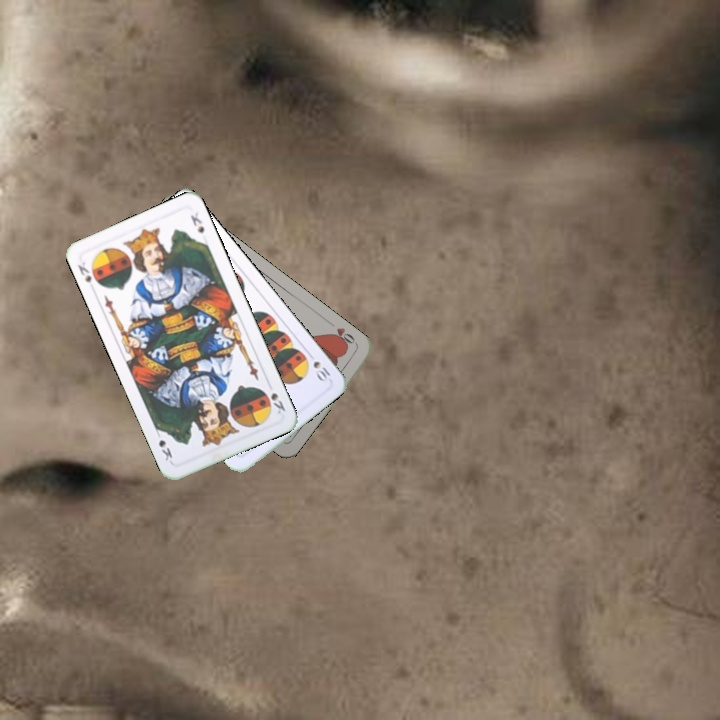HO: (325, 318, 360, 350)
S10: (304, 348, 333, 385)
SK: (267, 388, 288, 416), (74, 258, 94, 286)
